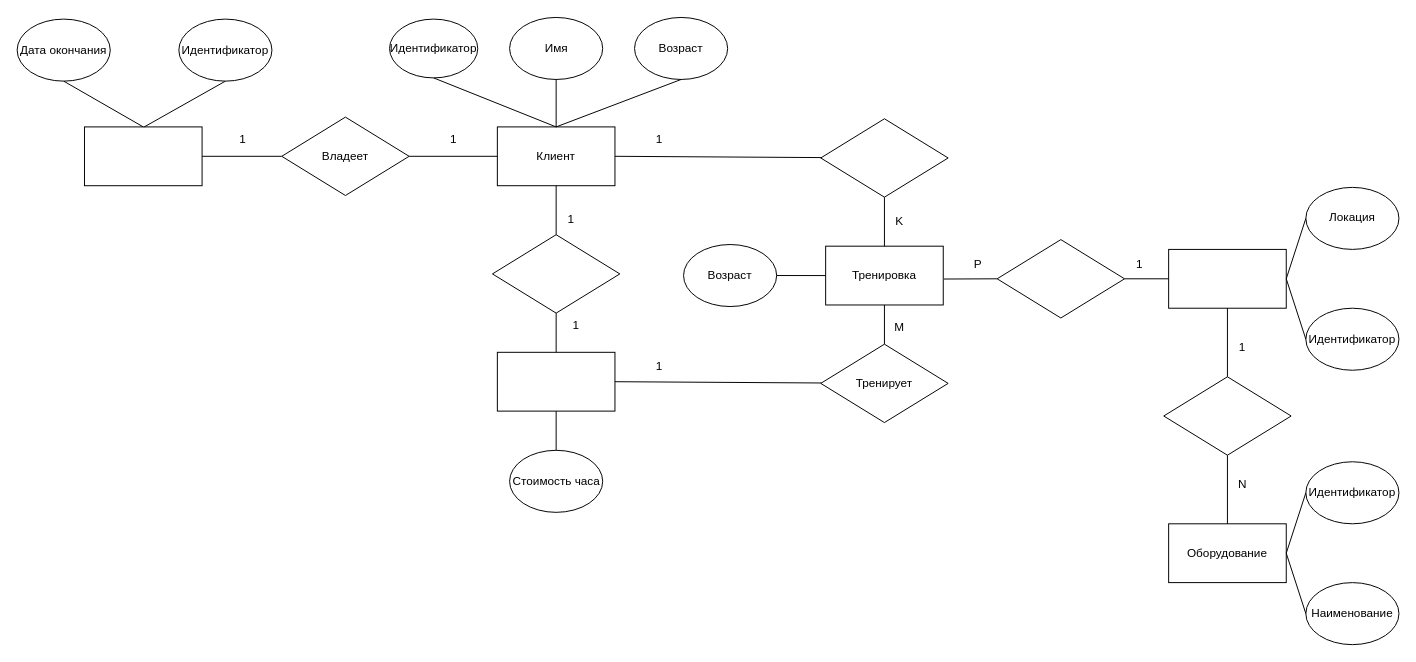
This 1416x662 diagram has some shape labels left out. Here are the shapes that lost their labels. From the top down, the centre of each, then its label:
At point 142,156: "Подписка".
At point 884,157: "Тренируется".
At point 555,273: "Является".
At point 1060,278: "Запланирована в".
At point 1227,278: "Тренажерный зал".
At point 555,381: "Тренер".
At point 1227,415: "Содержит".
